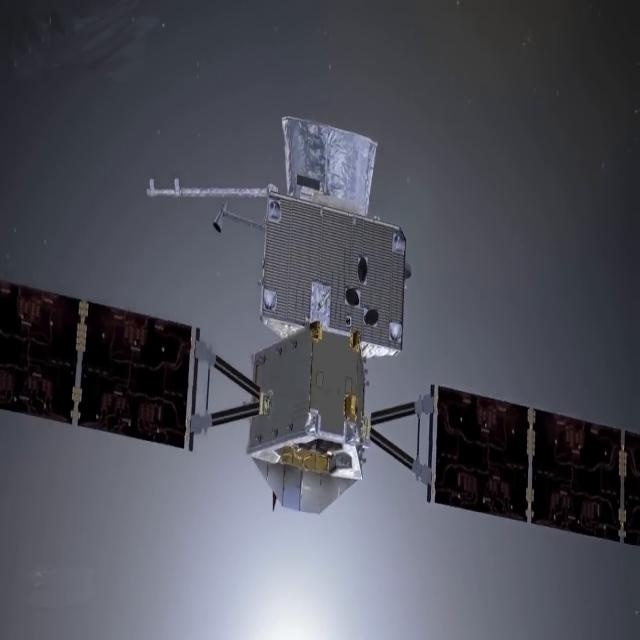medium_debris: (0, 98, 640, 581)
